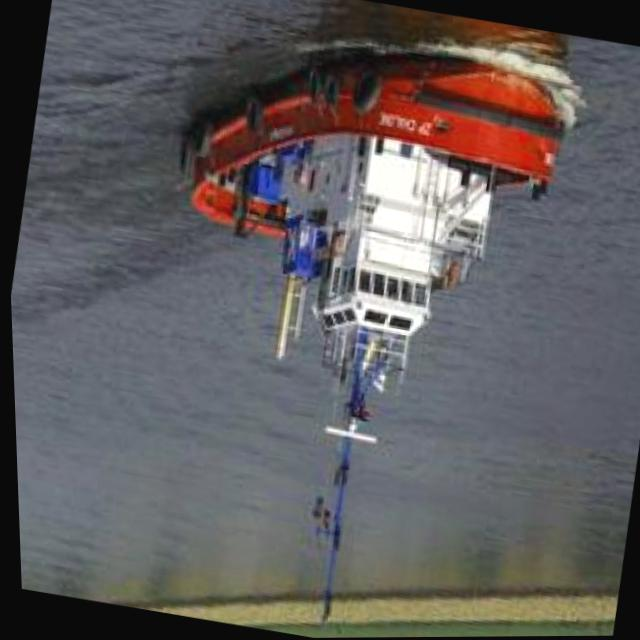ship2: (179, 35, 576, 610)
